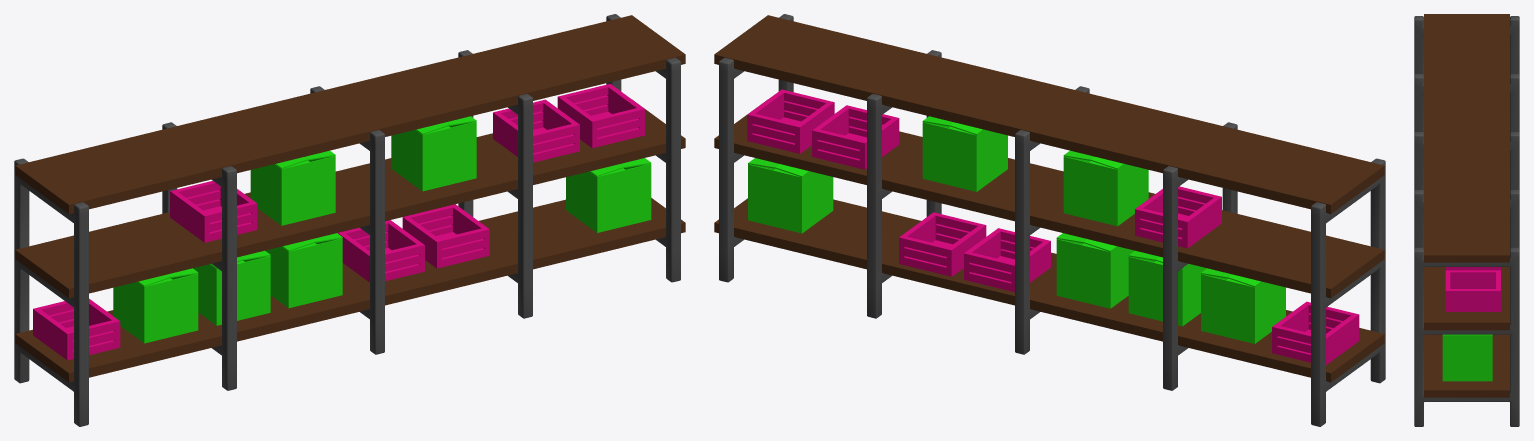
File: raf.fbx
3 renders of one model, left to right at view 1: azimuth 30°, elevation 25°; view 2: azimuth 150°, elevation 25°; view 3: azimuth 270°, elevation 25°, orthographic. The views are drawn at different scales.
Visible parts, largest first — view 1: raf; view 2: raf; view 3: raf.
Part boxes in pixels (x1,y1,x2,y2): raf: (14,14,685,426); raf: (714,14,1385,426); raf: (1414,14,1519,426).
Size of the model in its own units: 945 by 322 by 174.
